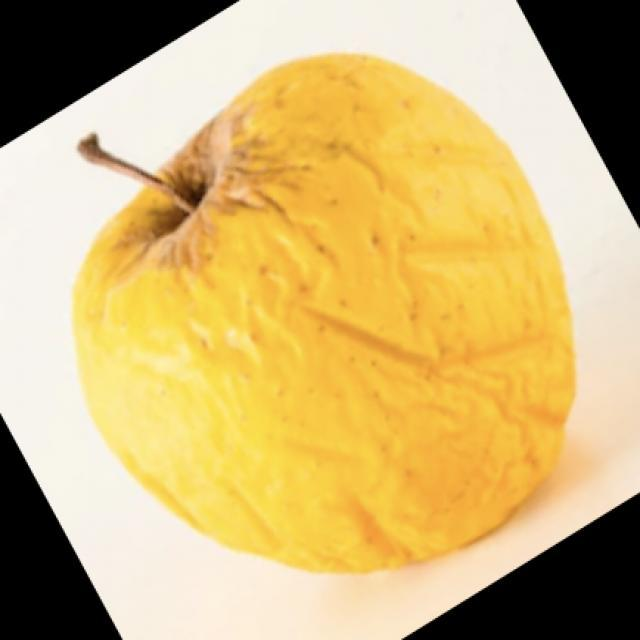Rotten: (63, 47, 585, 578)
